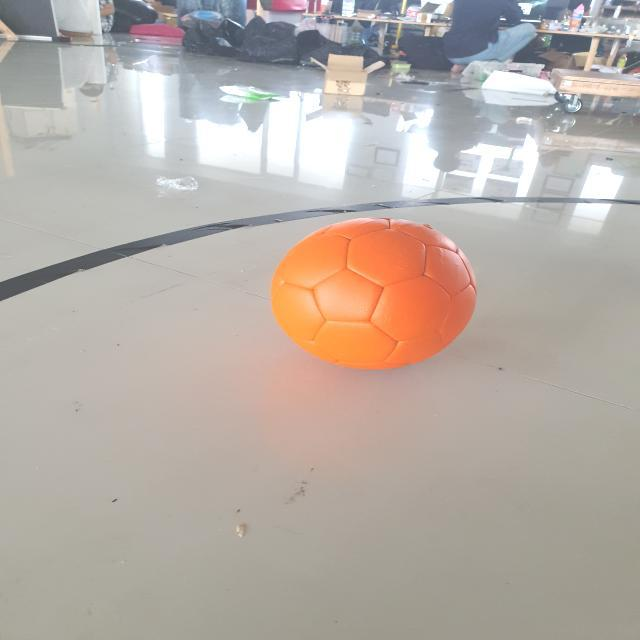bola: (261, 207, 486, 379)
